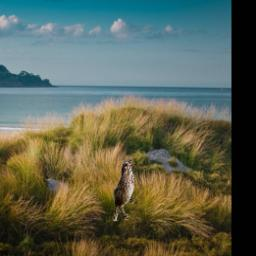Sparrow: (114, 160, 136, 222)
